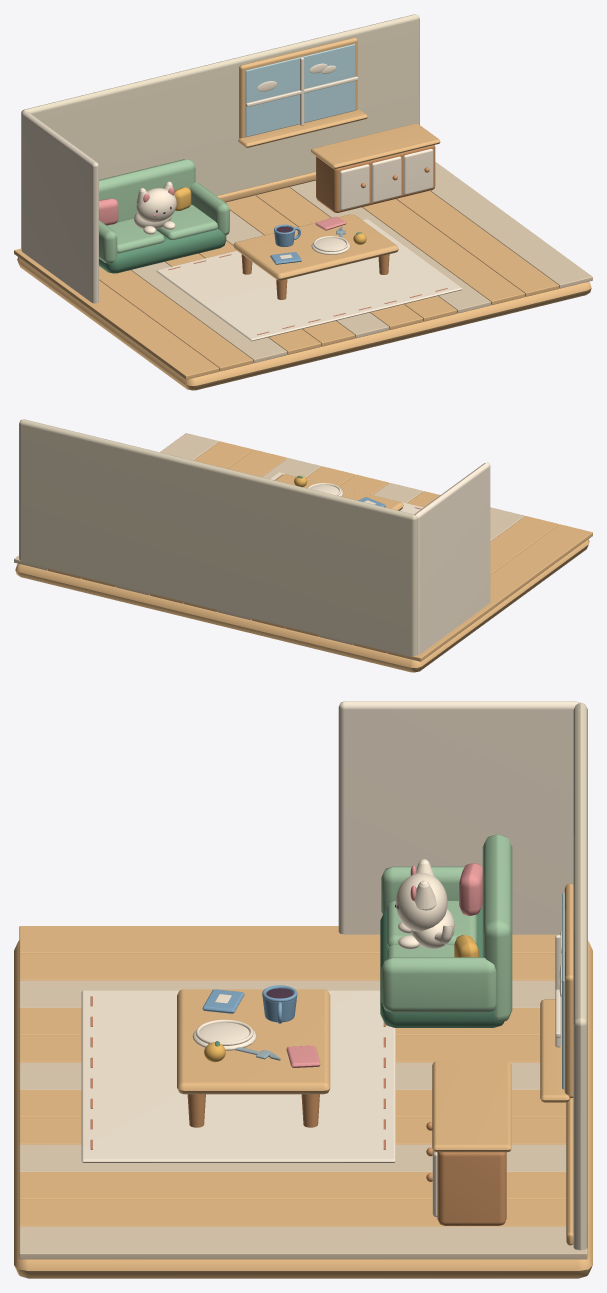
Rendered from room.glb.
3 views of the same model, one above another, from view 1: azimuth 30°, elevation 25°; view 2: azimuth 150°, elevation 25°; view 3: azimuth 270°, elevation 25° (orthographic). The views are drawn at different scales.
Visible parts, largest first — view 1: set__Back wall, set__Wool rug, set__Left return wall, set__Diorama plinth, set__Window pane, set__Birch floorboard.011, table__Tea table, set__Birch floorboard, set__Birch floorboard.010, set__Birch floorboard.009, set__Birch floorboard.001, set__Sideboard top (+22 smaller); view 2: set__Back wall, set__Left return wall, set__Diorama plinth, set__Birch floorboard, set__Birch floorboard.001, set__Birch floorboard.011, set__Birch floorboard.010, set__Birch floorboard.009, set__Birch floorboard.008, set__Birch floorboard.002, table__Tea table, set__Birch floorboard.005 (+3 smaller); view 3: set__Left return wall, set__Wool rug, set__Birch floorboard.011, set__Diorama plinth, set__Birch floorboard.010, set__Birch floorboard.009, table__Tea table, set__Birch floorboard.001, set__Birch floorboard, set__Back wall, set__Sideboard top, set__Birch floorboard.008 (+19 smaller).
Boxes of the visible parts, <box> form: set__Back wall: <box>21,14,419,249</box>; set__Wool rug: <box>156,219,462,341</box>; set__Left return wall: <box>21,111,98,303</box>; set__Diorama plinth: <box>17,257,591,390</box>; set__Window pane: <box>245,44,355,136</box>; set__Birch floorboard.011: <box>430,162,592,288</box>; table__Tea table: <box>233,214,398,280</box>; set__Birch floorboard: <box>14,248,219,379</box>; set__Birch floorboard.010: <box>396,190,558,296</box>; set__Birch floorboard.009: <box>362,199,524,304</box>; set__Birch floorboard.001: <box>99,266,253,371</box>; set__Sideboard top: <box>311,123,440,168</box>; set__Back wall: <box>19,419,417,656</box>; set__Left return wall: <box>414,462,490,654</box>; set__Diorama plinth: <box>15,539,589,672</box>; set__Birch floorboard: <box>387,524,592,661</box>; set__Birch floorboard.001: <box>353,516,558,653</box>; set__Birch floorboard.011: <box>14,433,219,570</box>; set__Birch floorboard.010: <box>48,441,253,578</box>; set__Birch floorboard.009: <box>82,449,286,586</box>; set__Birch floorboard.008: <box>116,458,320,595</box>; set__Birch floorboard.002: <box>319,507,524,645</box>; table__Tea table: <box>275,474,403,510</box>; set__Birch floorboard.005: <box>217,483,422,620</box>; set__Left return wall: <box>338,701,578,934</box>; set__Wool rug: <box>81,990,395,1162</box>; set__Birch floorboard.011: <box>19,1226,587,1259</box>; set__Diorama plinth: <box>14,940,592,1278</box>; set__Birch floorboard.010: <box>19,1199,566,1227</box>; set__Birch floorboard.009: <box>19,1172,566,1199</box>; table__Tea table: <box>177,989,330,1094</box>; set__Birch floorboard.001: <box>19,953,561,980</box>; set__Birch floorboard: <box>19,926,561,953</box>; set__Back wall: <box>573,702,587,1250</box>; set__Sideboard top: <box>432,1061,511,1152</box>; set__Birch floorboard.008: <box>19,1144,566,1172</box>.
Bounding box in the file's own units: 12.8 × 4.75 × 9.55.
